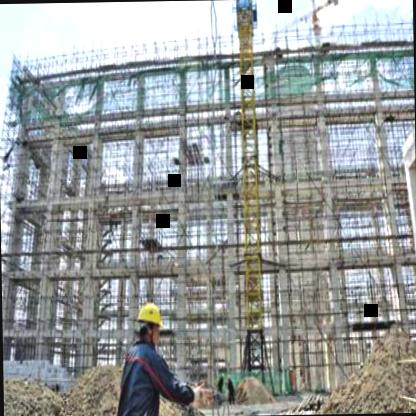helmet: (134, 298, 164, 344)
